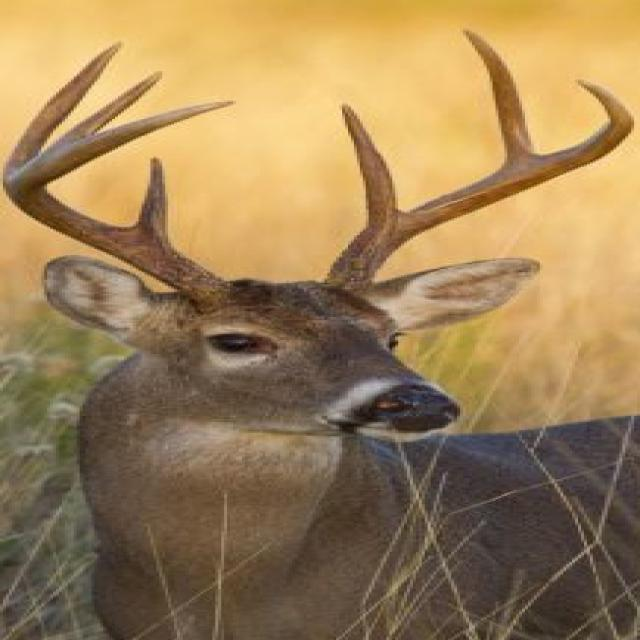L-F: (324, 80, 637, 292)
L-G1: (339, 101, 402, 225)
L-G2: (457, 27, 539, 169)
R-F: (1, 99, 243, 315)
R-G1: (129, 154, 172, 247)
R-G2: (3, 38, 125, 176)
R-G3: (54, 68, 165, 142)
